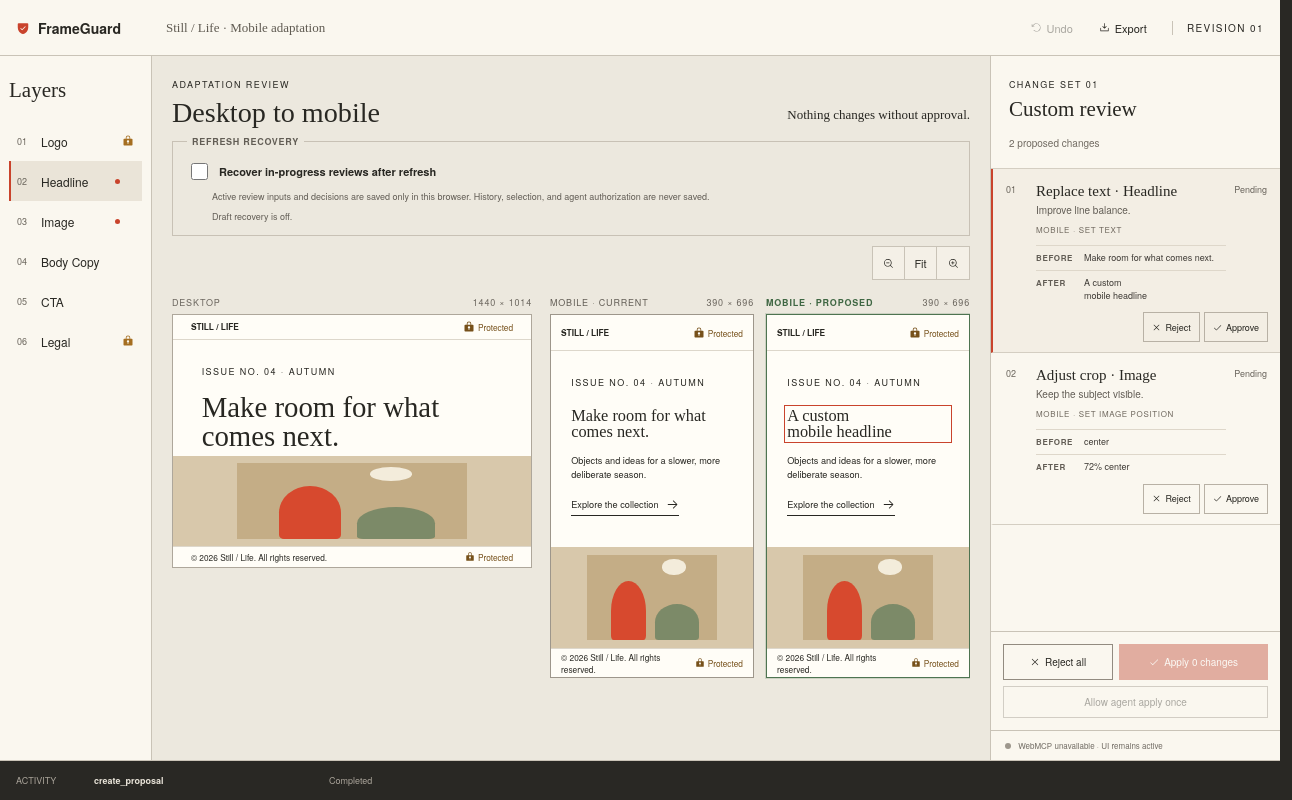
it: selects dynamic rows and synchronizes the non-mutating proposal preview
Click the option with aria-label "Image, 1 proposed change".
click(68, 221)  # box [17, 212, 120, 230]
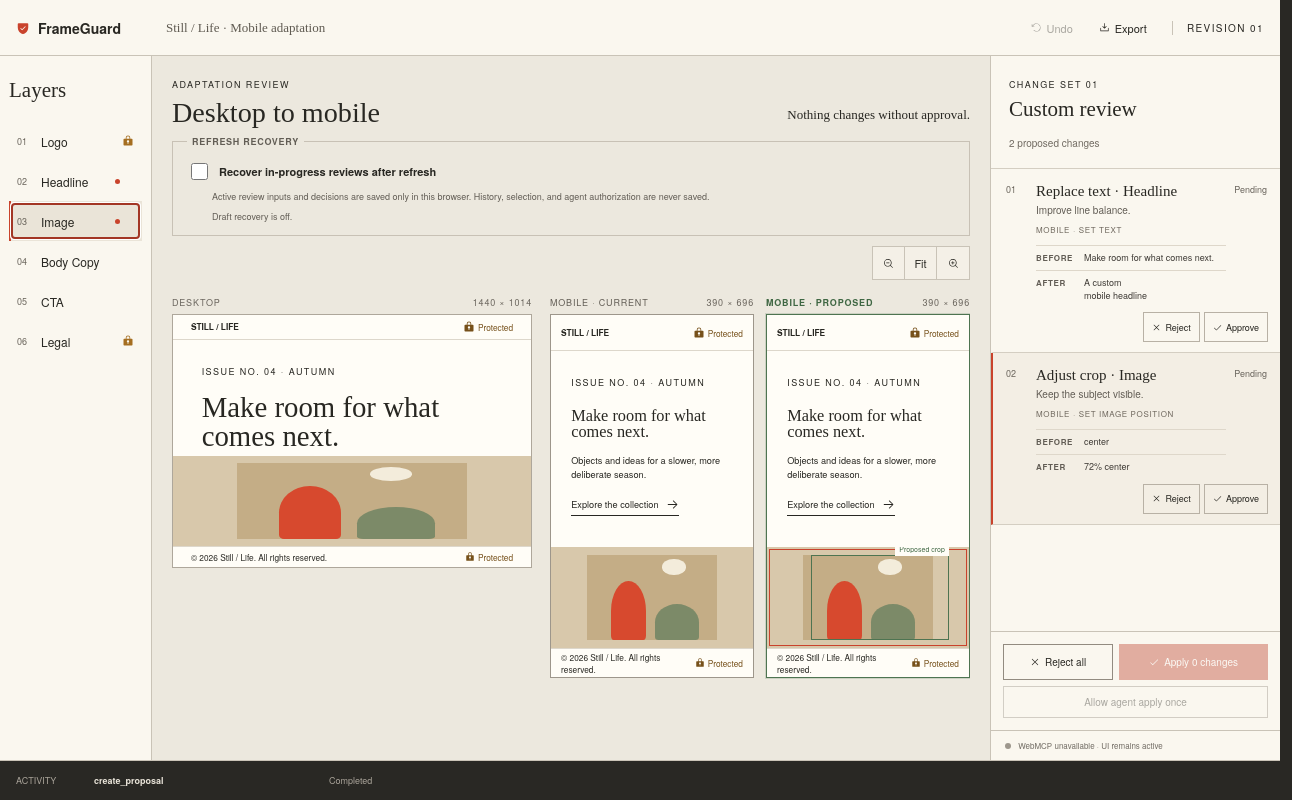
Expected: the text "center" is shown, [1084, 435, 1109, 448]
Now the element named "proposed crop boundary" is shown, box [811, 555, 949, 640]
